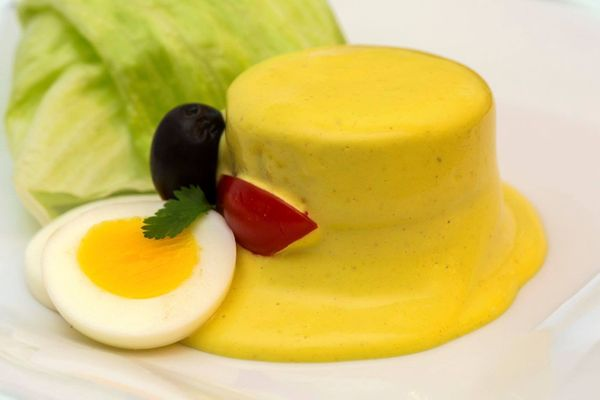pasta: (178, 39, 546, 363)
taco: (25, 193, 237, 350)
